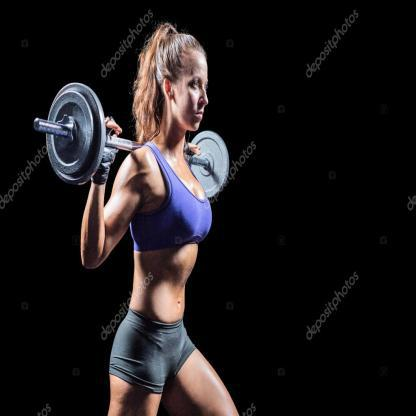Barbell: (43, 78, 112, 187)
